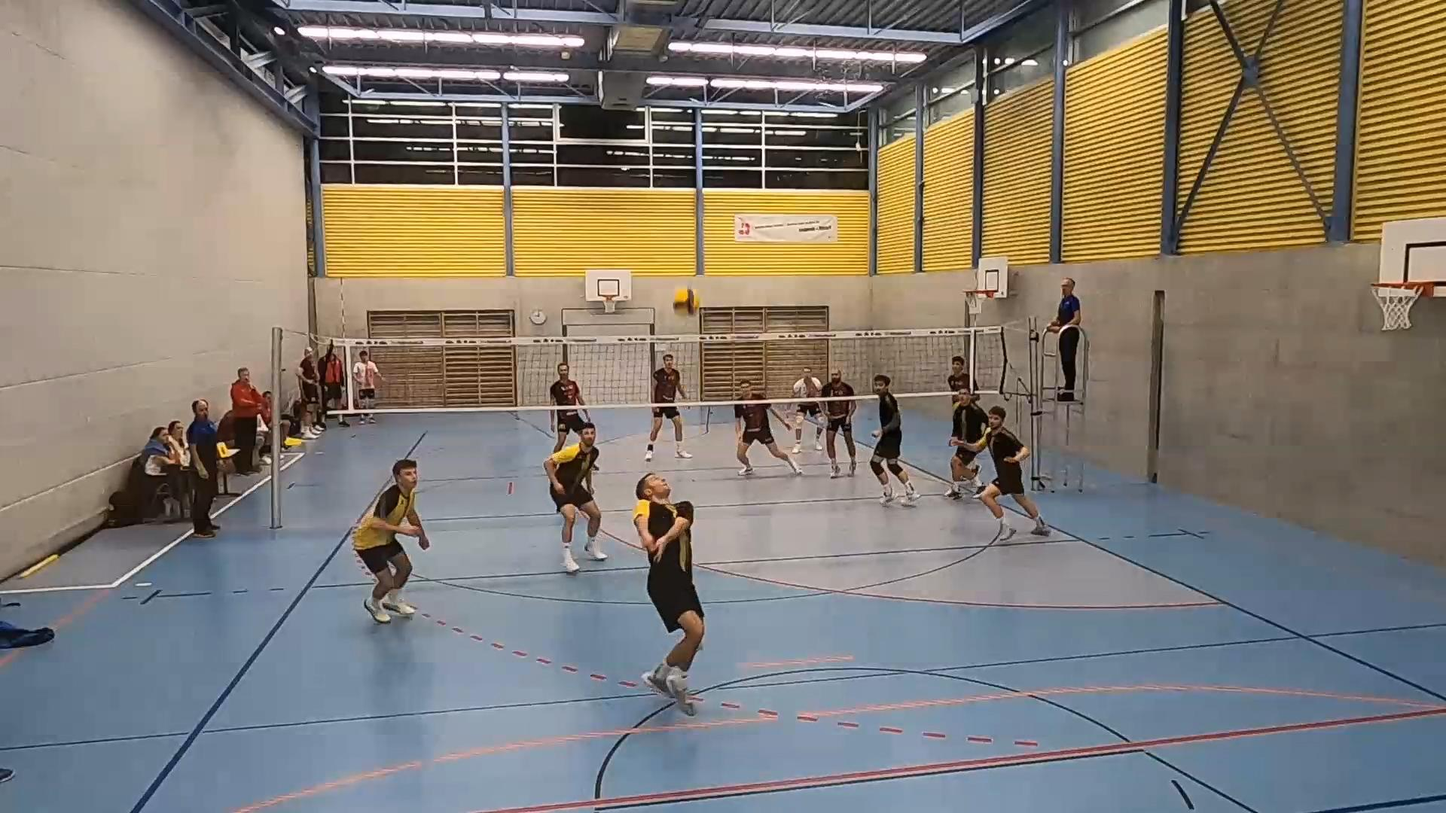difesa: (633, 471, 708, 714)
